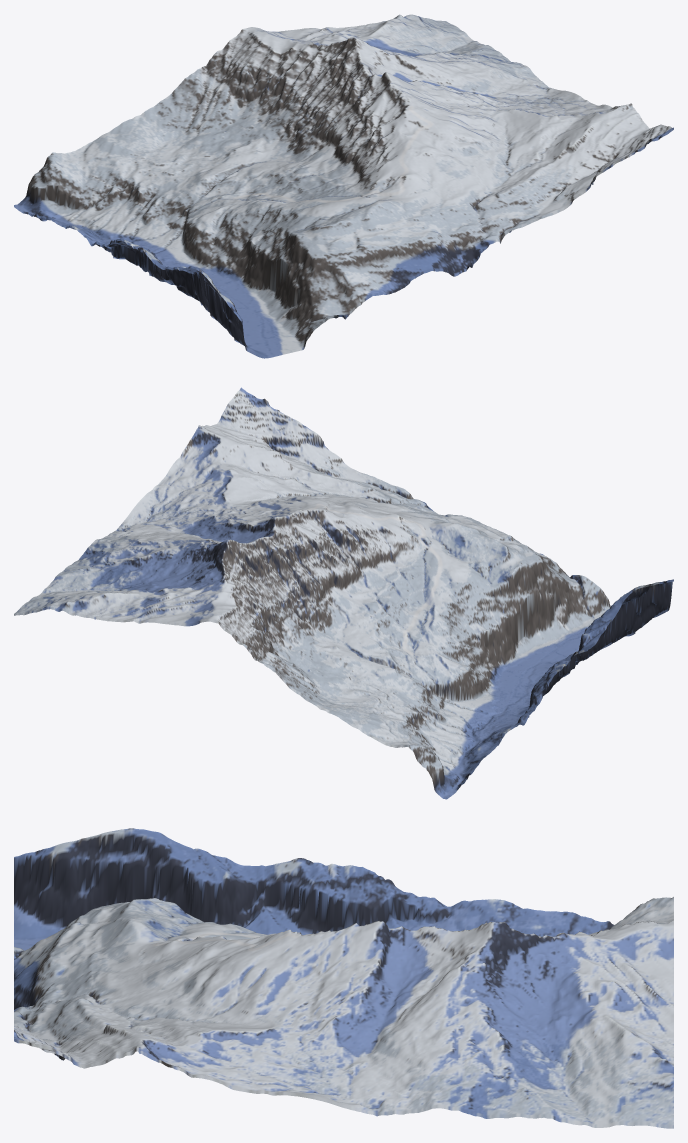
Rendered from terrain_lod1.glb.
3 views of the same model, one above another, from view 1: azimuth 30°, elevation 25°; view 2: azimuth 150°, elevation 25°; view 3: azimuth 270°, elevation 25° (orthographic). The views are drawn at different scales.
Parts seen in each view (by area): view 1: T1_5_1, T1_2_8, T1_3_9, T1_2_9, T1_0_0, T1_4_9, T1_5_9, T1_4_0, T1_1_1, T1_2_5, T1_5_0, T1_5_2 (+82 smaller); view 2: T1_2_7, T1_2_6, T1_2_8, T1_5_3, T1_5_5, T1_10_9, T1_5_4, T1_5_6, T1_6_2, T1_9_9, T1_3_6, T1_6_3 (+78 smaller); view 3: T1_0_9, T1_0_8, T1_0_5, T1_0_7, T1_0_6, T1_7_2, T1_7_4, T1_10_0, T1_0_4, T1_10_3, T1_7_5, T1_8_4 (+56 smaller).
Part boxes in pixels (x1,y1,x2,y2): T1_5_1: [233, 48, 295, 124]; T1_2_8: [274, 230, 336, 319]; T1_3_9: [336, 240, 398, 305]; T1_2_9: [297, 258, 359, 325]; T1_0_0: [14, 152, 75, 221]; T1_4_9: [376, 227, 437, 290]; T1_5_9: [415, 216, 477, 276]; T1_4_0: [171, 59, 233, 126]; T1_1_1: [76, 162, 137, 221]; T1_2_5: [206, 210, 267, 279]; T1_5_0: [211, 27, 272, 95]; T1_5_2: [256, 77, 317, 144]; T1_2_7: [488, 557, 549, 655]; T1_2_6: [465, 589, 526, 672]; T1_2_8: [511, 550, 572, 636]; T1_5_3: [279, 570, 340, 636]; T1_5_5: [324, 529, 385, 593]; T1_10_9: [218, 387, 280, 442]; T1_5_4: [301, 549, 363, 616]; T1_5_6: [347, 515, 408, 571]; T1_6_2: [217, 542, 278, 603]; T1_9_9: [258, 412, 319, 462]; T1_3_6: [426, 564, 487, 618]; T1_6_3: [240, 535, 301, 590]; T1_0_9: [14, 839, 79, 948]; T1_0_8: [80, 828, 145, 915]; T1_0_5: [278, 858, 343, 934]; T1_0_7: [146, 830, 211, 922]; T1_0_6: [212, 855, 277, 934]; T1_7_2: [476, 922, 541, 1001]; T1_7_4: [344, 927, 409, 995]; T1_10_0: [608, 1075, 673, 1128]; T1_0_4: [344, 865, 409, 929]; T1_10_3: [410, 1062, 475, 1116]; T1_7_5: [278, 935, 343, 990]; T1_8_4: [344, 980, 409, 1036].
Bounding box in the file's own units: 5632 × 1818 × 5120.
